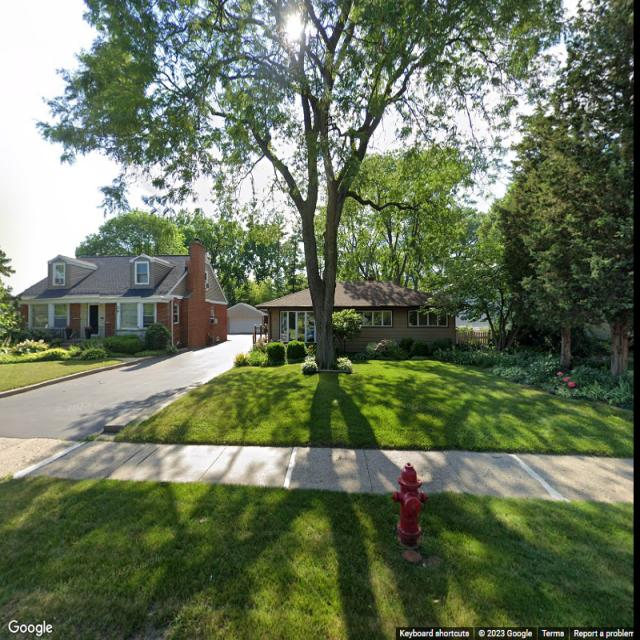House: (15, 241, 227, 350), (257, 280, 458, 354), (227, 303, 267, 332)
